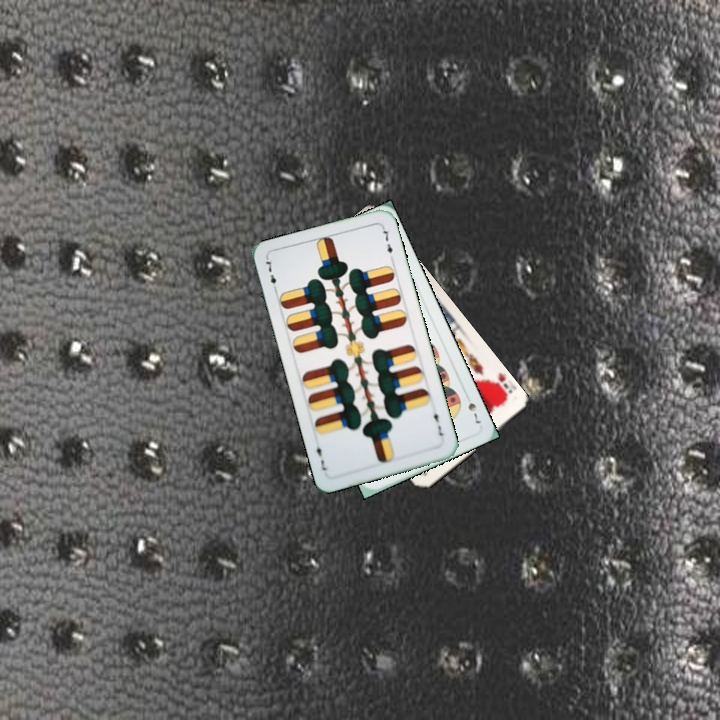E7: (261, 255, 280, 295), (429, 404, 446, 438)
HK: (484, 374, 517, 404)
S7: (464, 398, 484, 428)
